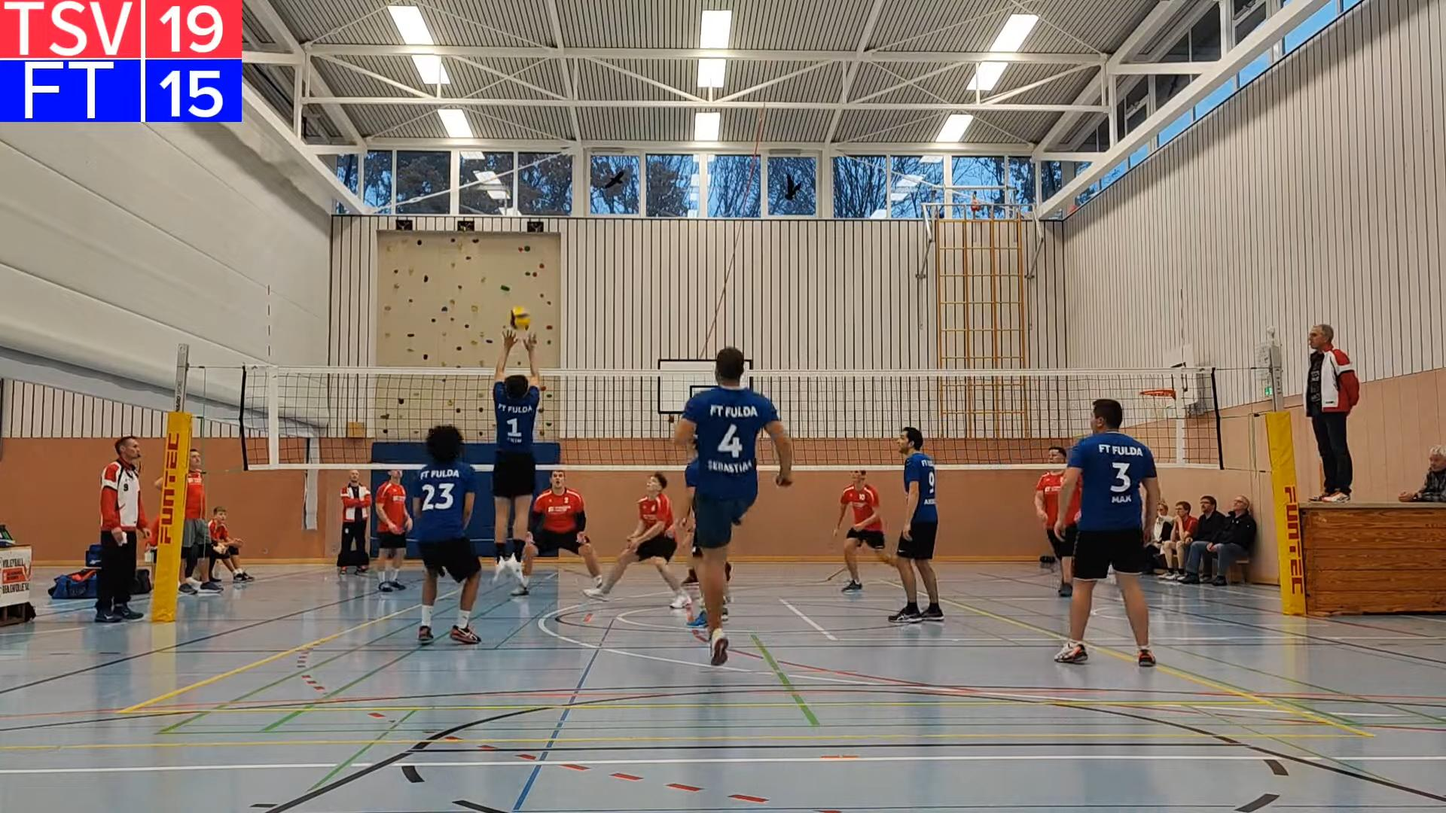Block: (490, 330, 544, 579)
Player: (675, 347, 792, 665), (1054, 399, 1158, 666), (412, 425, 480, 644), (583, 472, 688, 608), (511, 470, 601, 595), (889, 427, 943, 623), (833, 470, 893, 592), (1034, 446, 1078, 596), (674, 445, 701, 586), (674, 456, 702, 586)
ball: (505, 307, 529, 328)
